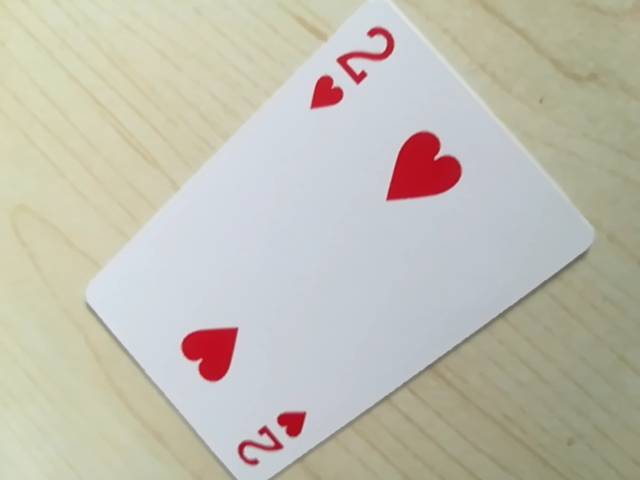hx 2: (306, 18, 400, 116), (226, 407, 316, 477)
